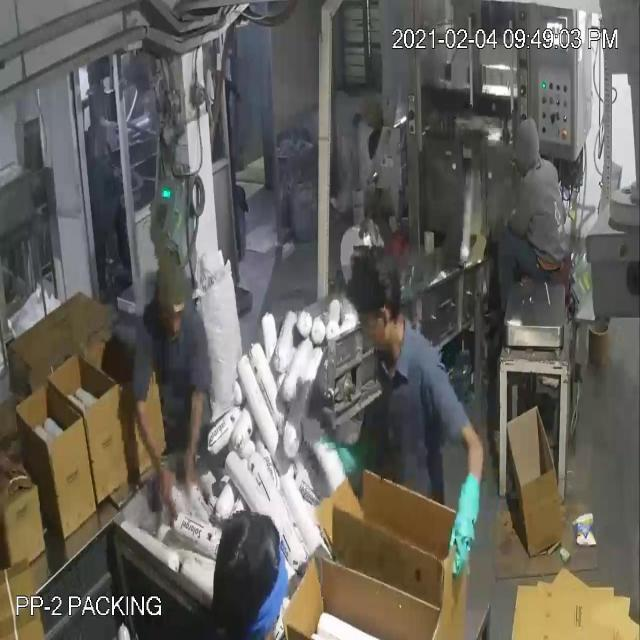No_Gloves: (50, 80, 461, 523)
